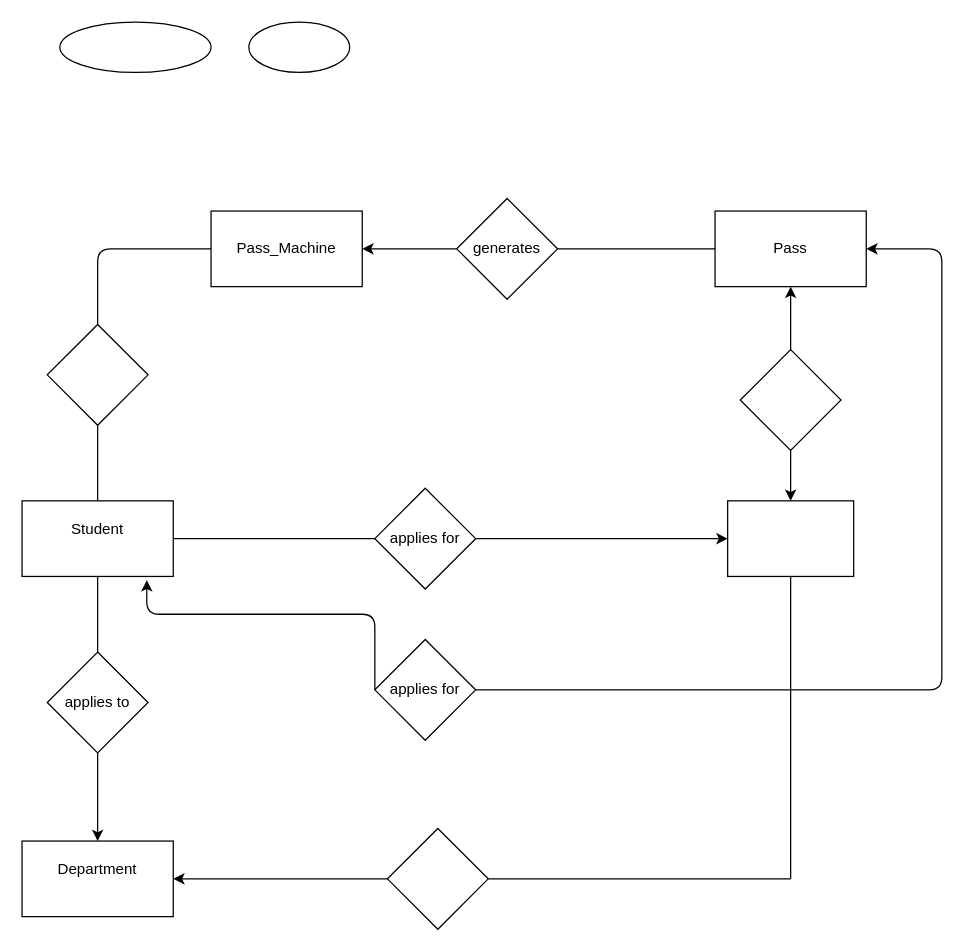
This 974x951 diagram has some shape labels left out. The shapes that lost their labels are listed below. From the top down, each one's centre as x and y in pixels, then its label:
the point at 97,374: operates
the point at 790,399: granted on basis of
the point at 790,538: Concession
the point at 437,878: grants
